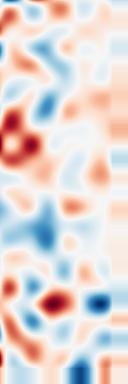filament: (0, 107, 50, 172)
